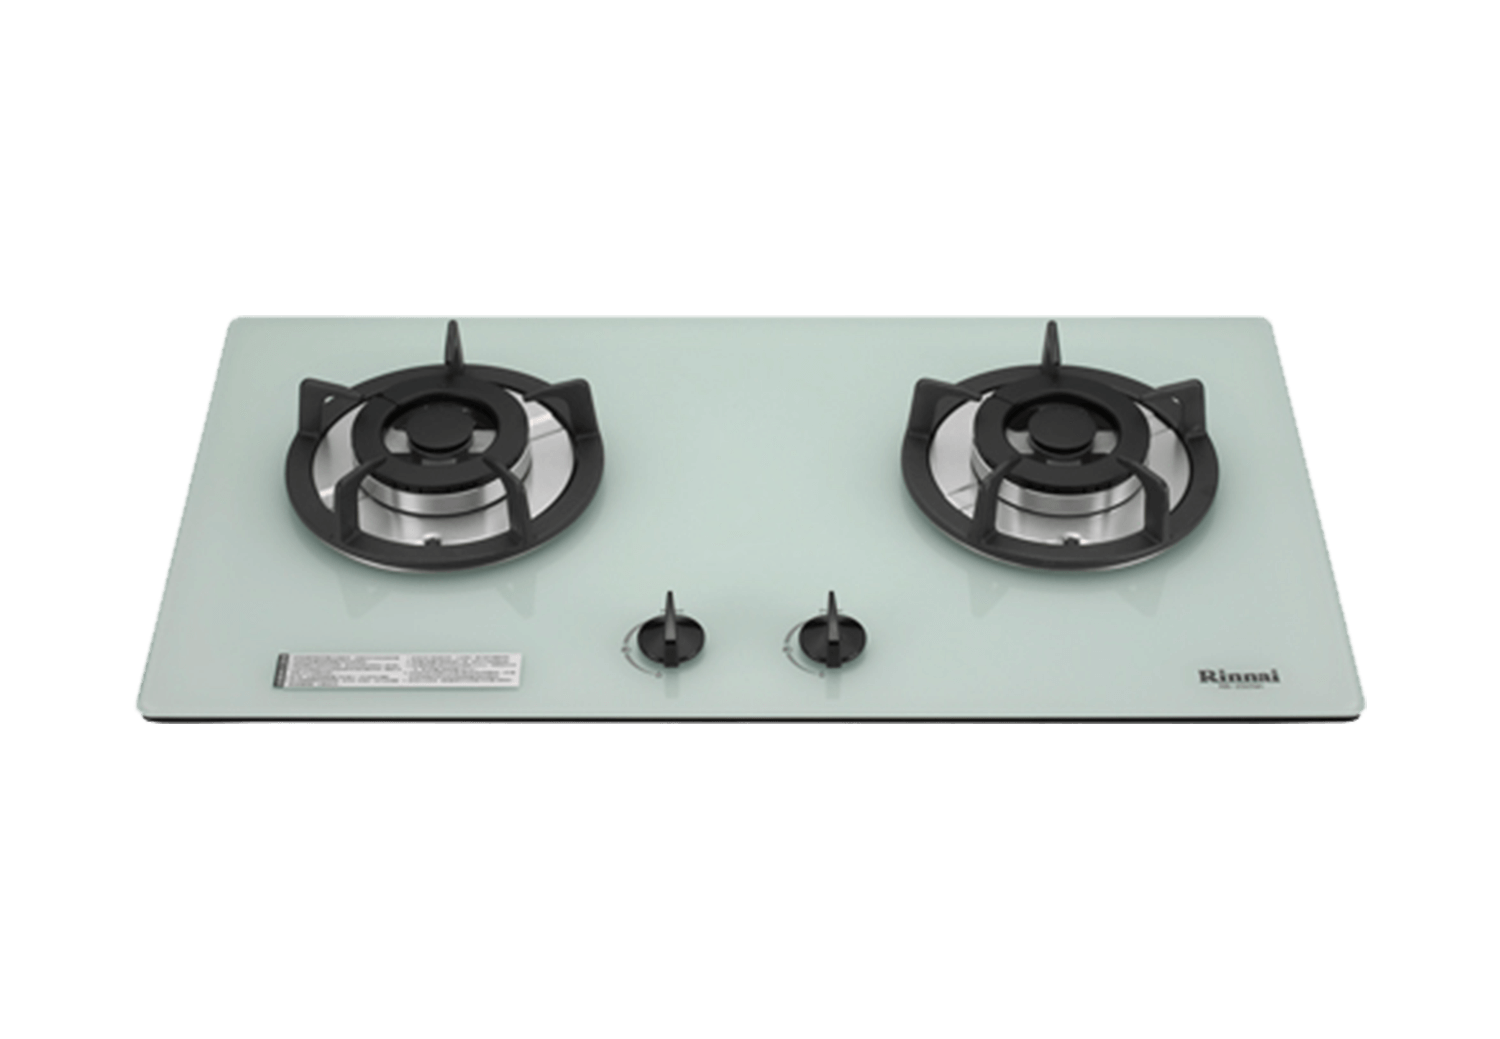gasoven: (134, 306, 1386, 756)
